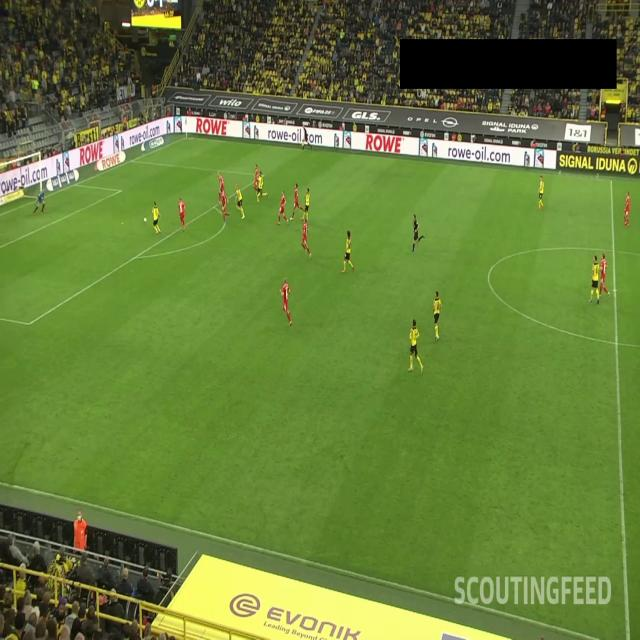Ball: (143, 216, 147, 222)
GoalKeeper: (34, 188, 46, 215)
Referee: (411, 214, 425, 254), (300, 125, 313, 152)
TEAM 1: (279, 278, 293, 326), (290, 184, 306, 220), (598, 254, 610, 302), (300, 218, 312, 260), (218, 190, 231, 222), (218, 171, 229, 205), (278, 190, 288, 225), (178, 196, 185, 231), (624, 192, 630, 228), (253, 164, 259, 193)
TEAM 2: (408, 320, 424, 376), (588, 256, 600, 306), (342, 231, 354, 274), (433, 291, 442, 342), (256, 171, 268, 203), (235, 184, 245, 220), (300, 188, 310, 223), (152, 202, 162, 234), (538, 175, 544, 212)
